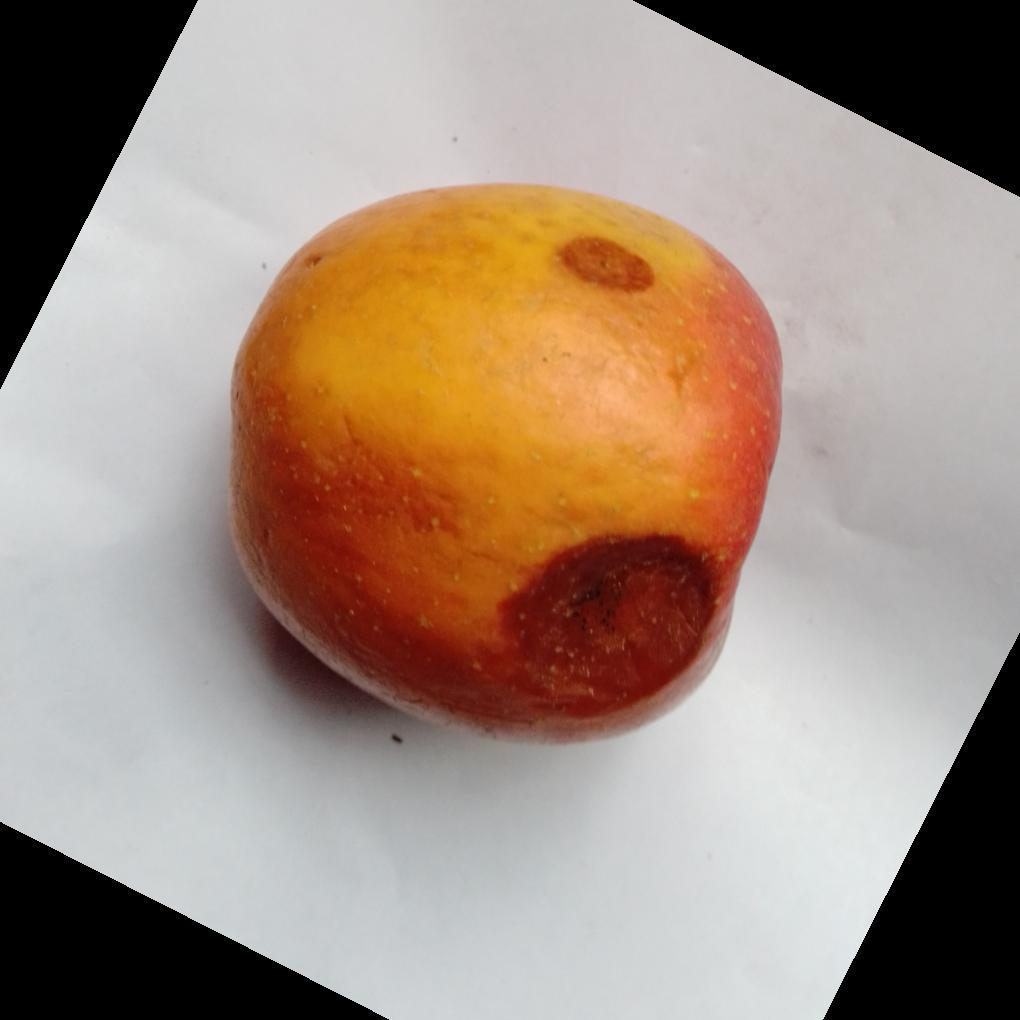FreshOrange: (227, 184, 782, 749)
